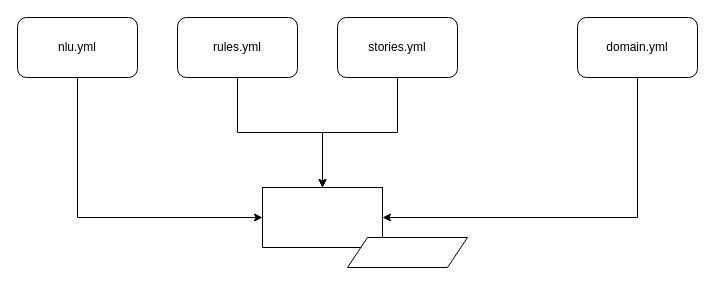
The diagram is 715 pixels wide and 285 high, and some of its shapes have lost their labels. The shapes that lost their labels are listed below. From the top down, each one's centre as x and y in pixels, then its label:
At pixel 322 217: "Modell".
At pixel 407 252: "rasa train".
